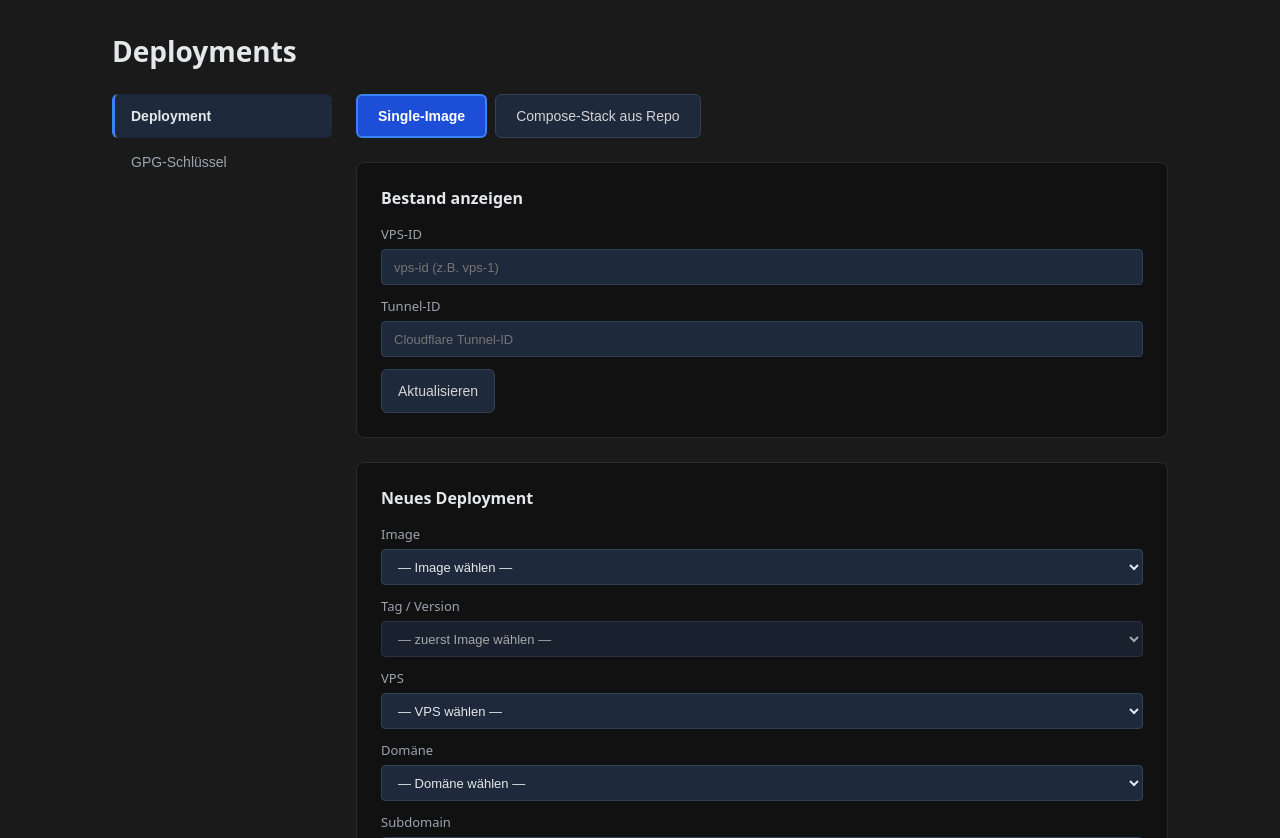
AC12 — errorClass vps-provisioning / docker-failed → Retry-Hinweis › errorClass "vps-provisioning" → Retry-Hinweis (Docker installieren)
Select "brew-assistent" in the dropdown with id "deploy-image-select" at point(762, 567), box x1=381 y1=549 x2=1143 y2=585
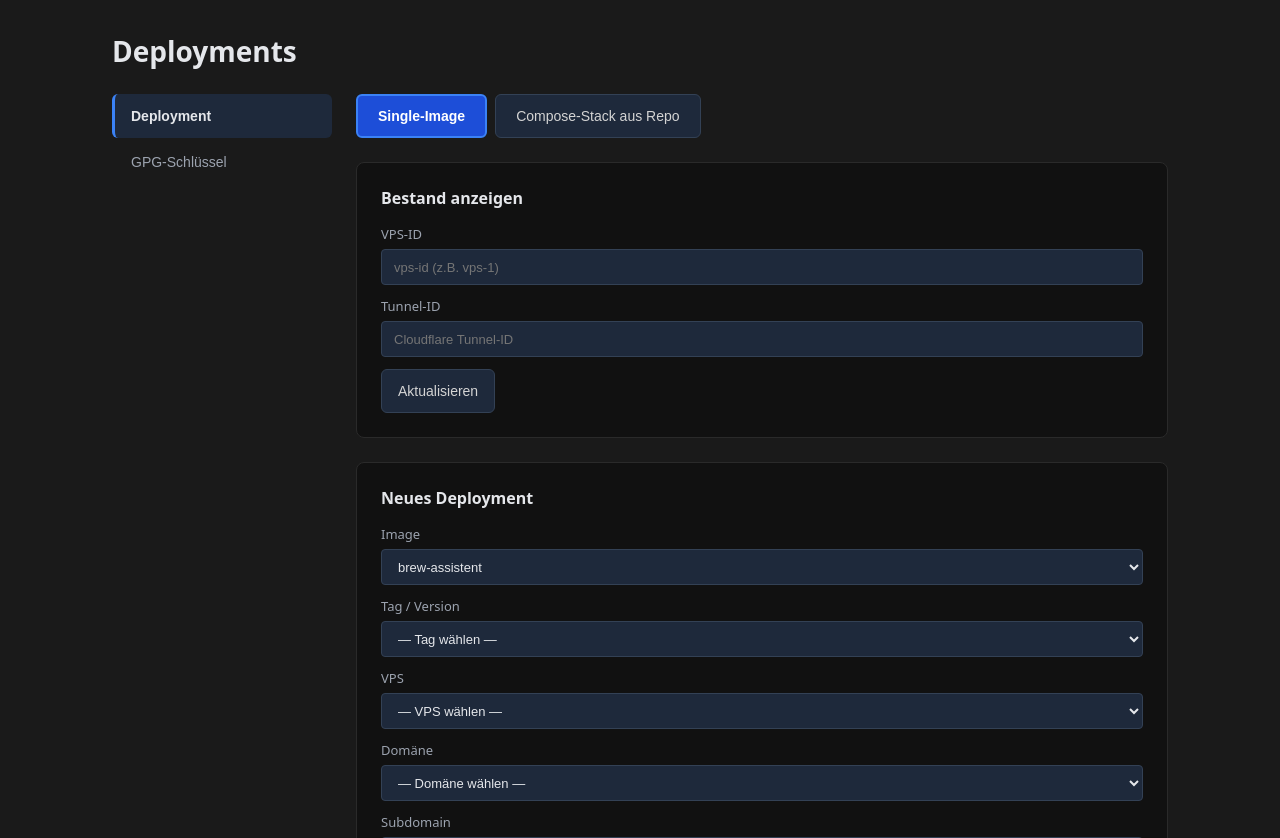
Select "v1.0.0" in the dropdown with id "deploy-tag-select" at point(762, 639), box x1=381 y1=621 x2=1143 y2=657
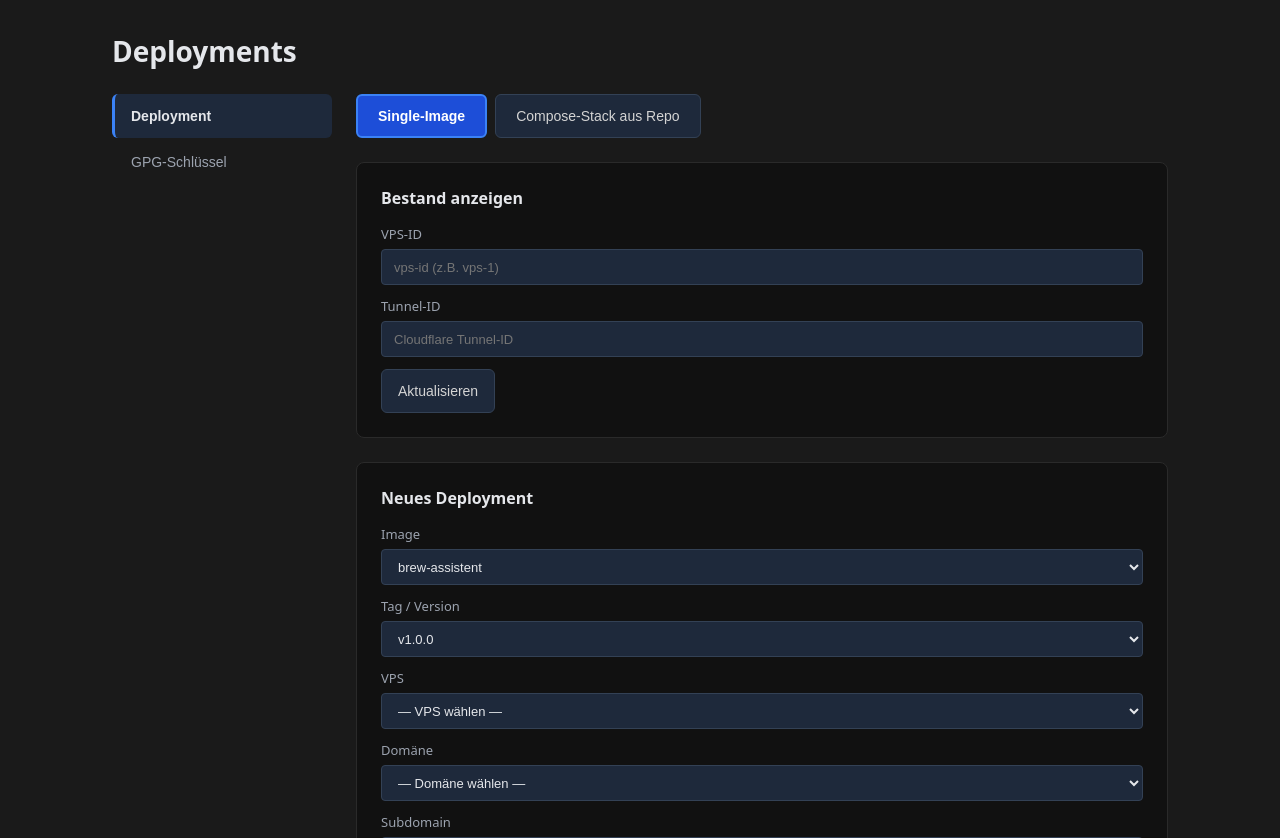
Select "vps-1" in the dropdown with id "deploy-vps-select" at point(762, 711), box x1=381 y1=693 x2=1143 y2=729
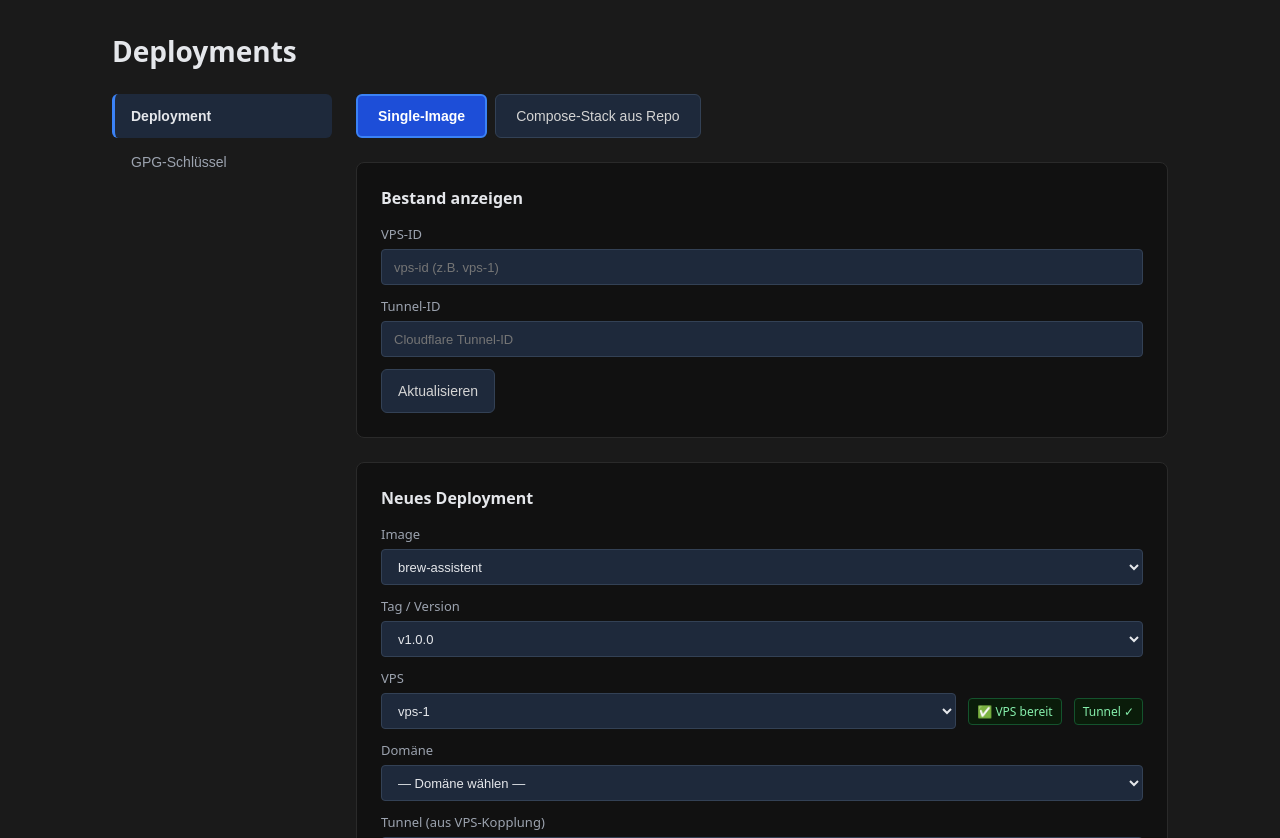
Select "alexstuder.cloud" in the dropdown with id "deploy-zone-select" at point(762, 783), box x1=381 y1=765 x2=1143 y2=801
Wait 200 ms
(page scrolled)
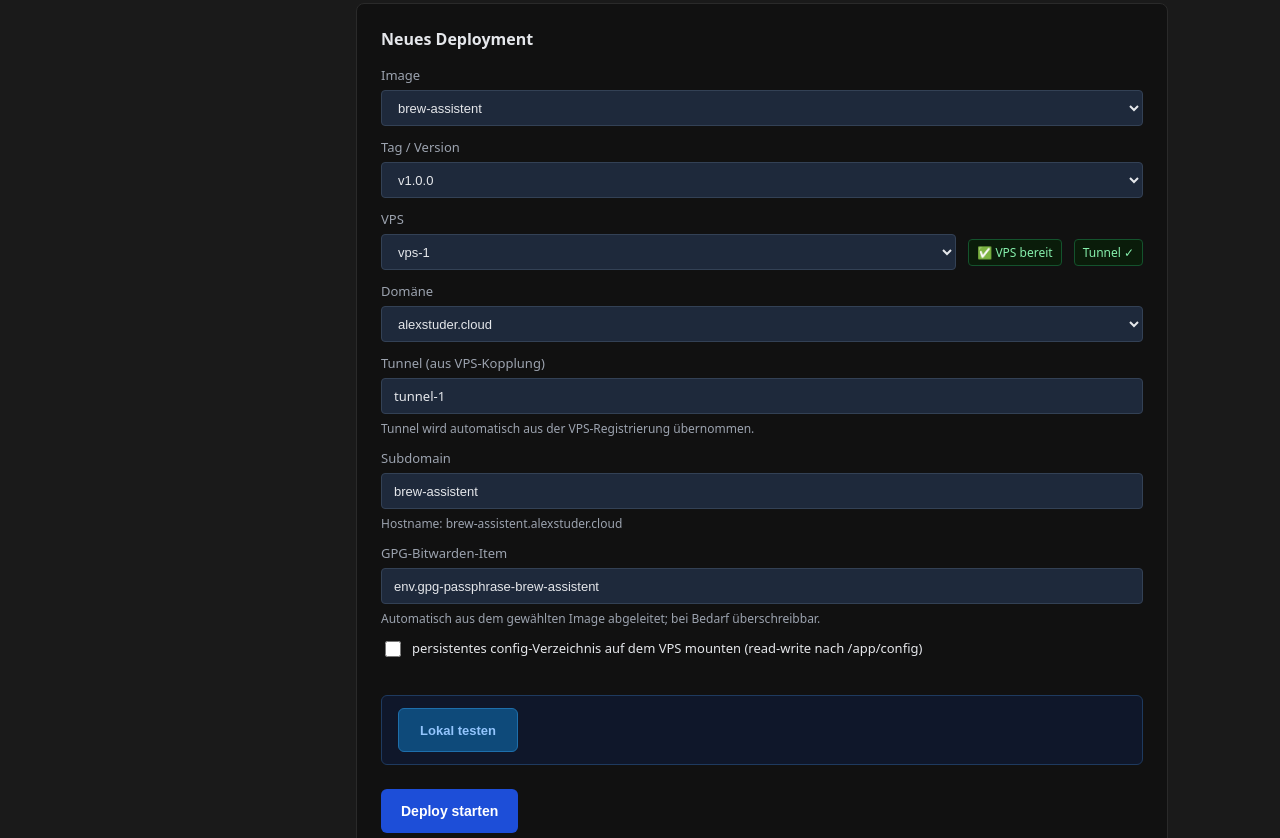
Expected: the button "Deploy starten" is enabled, x1=381 y1=789 x2=518 y2=833
Expected: the message "Tunnel ✓" is shown, x1=1074 y1=238 x2=1143 y2=266
Submit the form named "Deploy-Formular", box x1=381 y1=66 x2=1143 y2=833
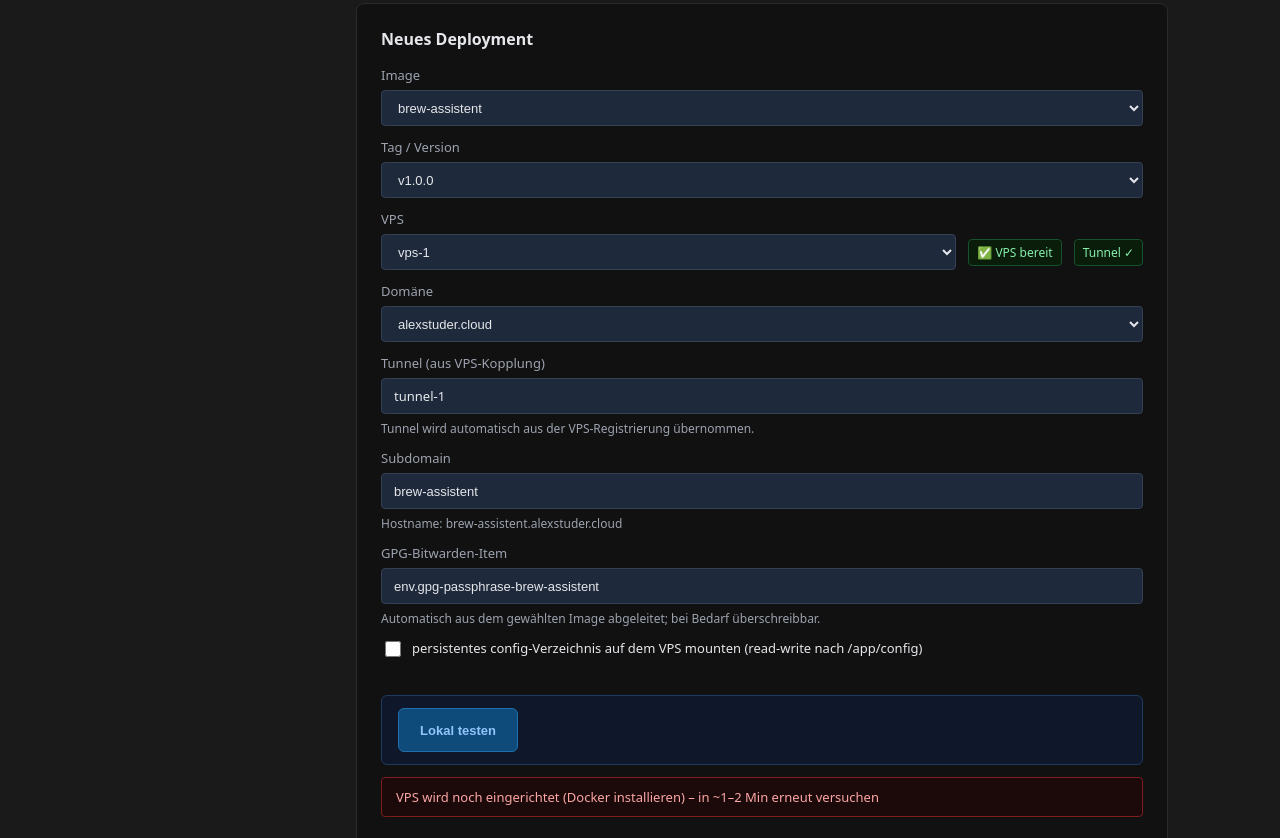
Expected: the 3rd message shows "Docker installieren", x1=396 y1=788 x2=879 y2=806
Expected: the 3rd message shows "erneut versuchen", x1=396 y1=788 x2=879 y2=806
